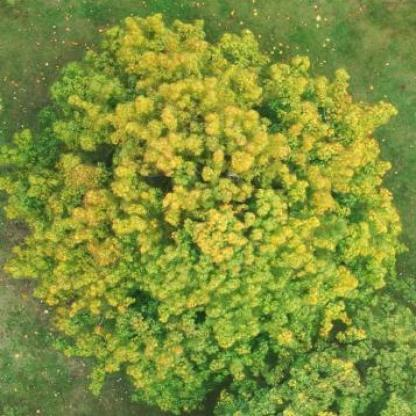Deciduous Tree: (6, 13, 398, 407), (246, 275, 416, 416)
